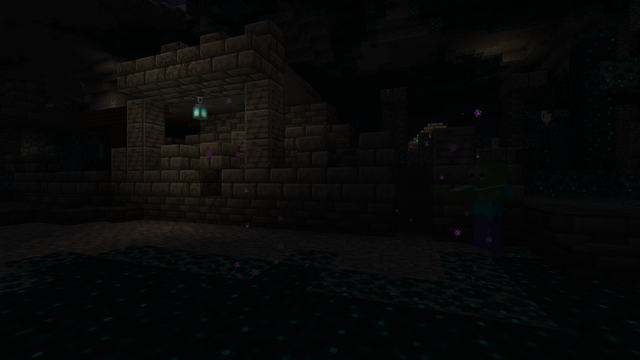zombies: (468, 163, 507, 259)
